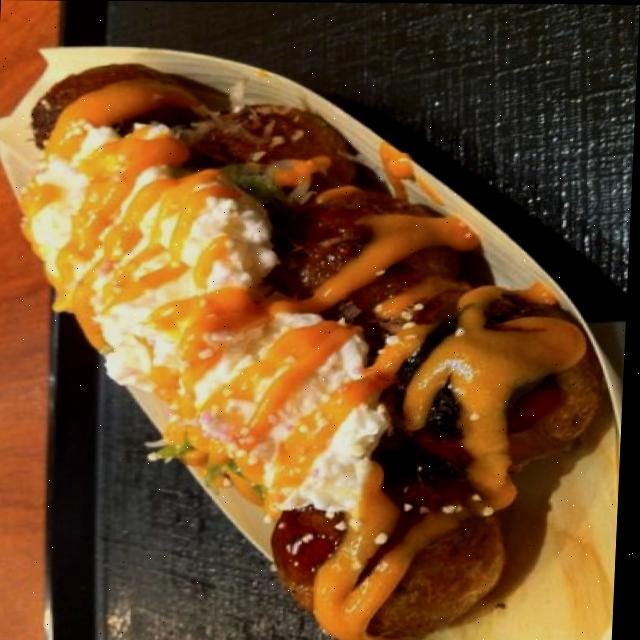炸货点心: (0, 35, 639, 640)
